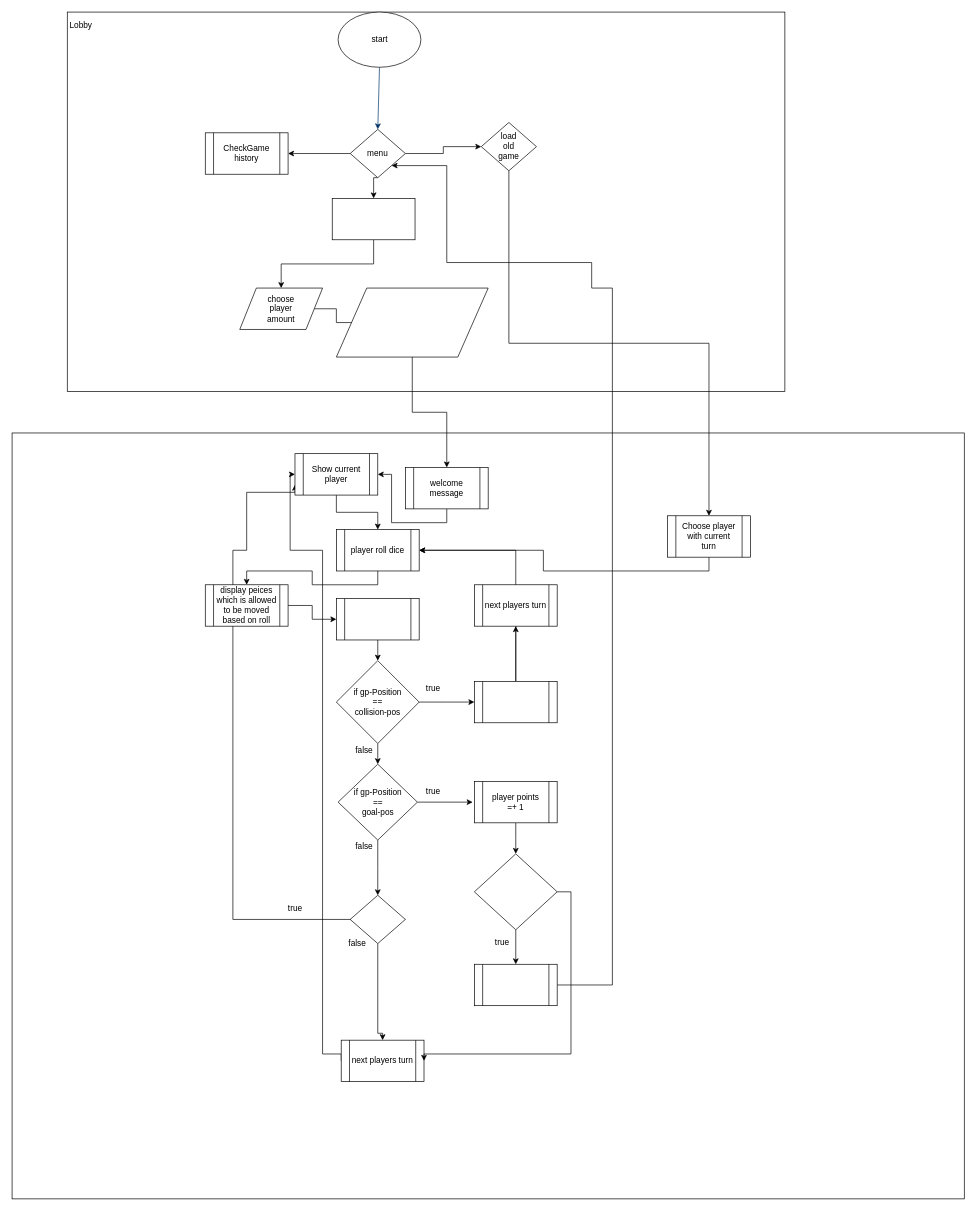
Image size: 976x1211. Some labels were removed from this diagram. Here are the shapes that lost their labels. From the top down, the centre of each, then its label:
point (373, 219): Start new game
point (412, 322): Foreach player join game by setting name and color
point (377, 619): select peice to move
point (515, 702): push away other piece
point (515, 891): if player points == 4
point (377, 919): if dice = 6
point (515, 985): victory
